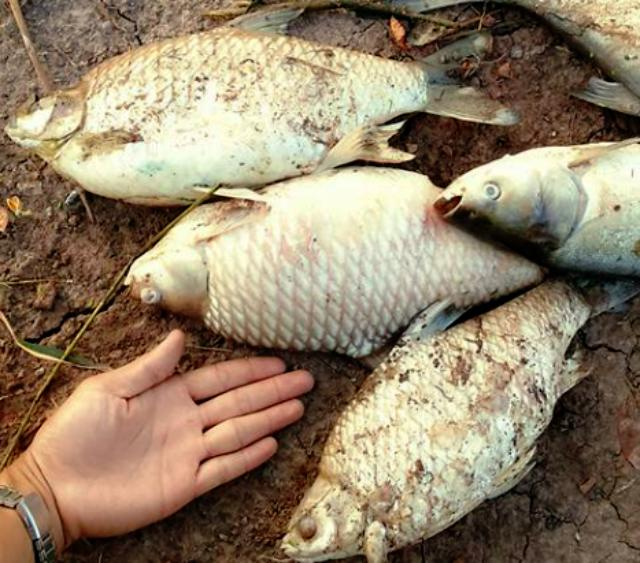Columnaris Disease: (280, 278, 639, 562), (5, 5, 515, 204), (125, 167, 543, 358), (441, 138, 639, 277)
